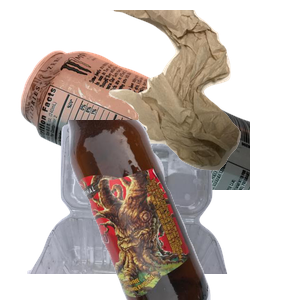glass: (65, 120, 300, 300)
metal: (18, 48, 258, 228)
plastic: (25, 120, 245, 300)
trash: (103, 10, 300, 173)
